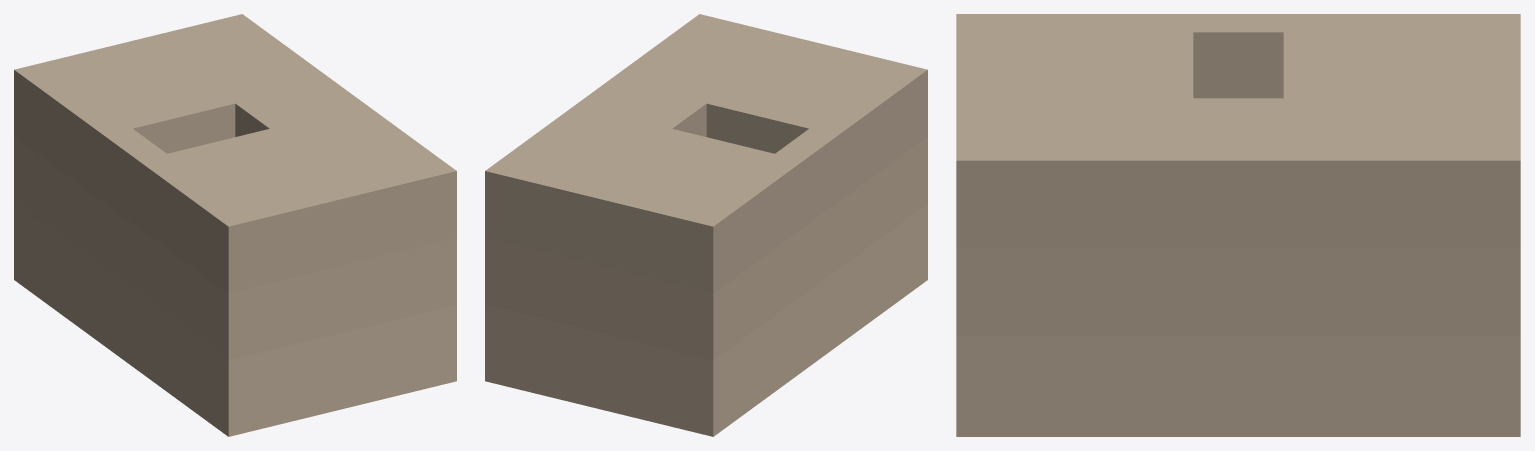
File: massing.glb
The picture shows the model from 3 angles, left to right: view 1: azimuth 30°, elevation 25°; view 2: azimuth 150°, elevation 25°; view 3: azimuth 270°, elevation 25°; orthographic projection. The views are drawn at different scales.
Parts seen in each view (by area): view 1: main/floor3/0/0, main/floor1/0/0, main/floor2/0/0; view 2: main/floor3/0/0, main/floor1/0/0, main/floor2/0/0; view 3: main/floor3/0/0, main/floor1/0/0, main/floor2/0/0.
Part boxes in pixels (bbox=[...]): main/floor3/0/0: bbox=[14, 14, 456, 293]; main/floor1/0/0: bbox=[14, 203, 456, 436]; main/floor2/0/0: bbox=[14, 137, 456, 360]; main/floor3/0/0: bbox=[485, 14, 927, 293]; main/floor1/0/0: bbox=[485, 203, 927, 436]; main/floor2/0/0: bbox=[485, 137, 927, 360]; main/floor3/0/0: bbox=[956, 14, 1520, 248]; main/floor1/0/0: bbox=[956, 336, 1520, 436]; main/floor2/0/0: bbox=[956, 248, 1520, 336].
Bounding box in the file's own units: 10 × 8.8 × 16.27.
